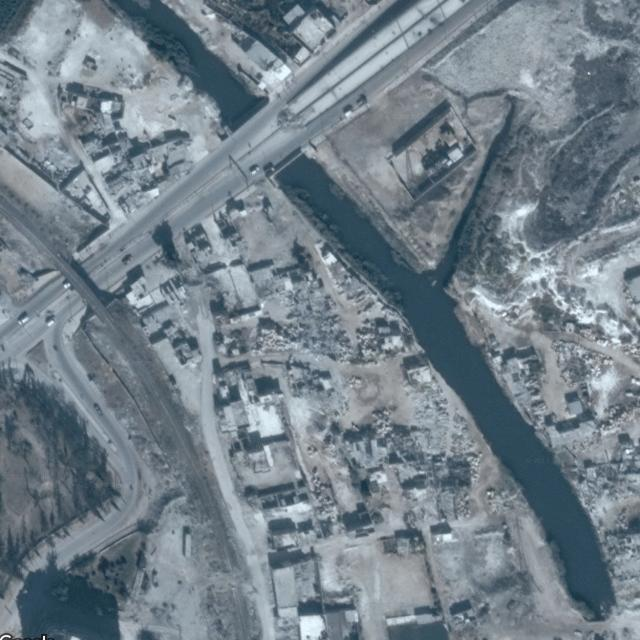damaged_building: (203, 246, 551, 624)
